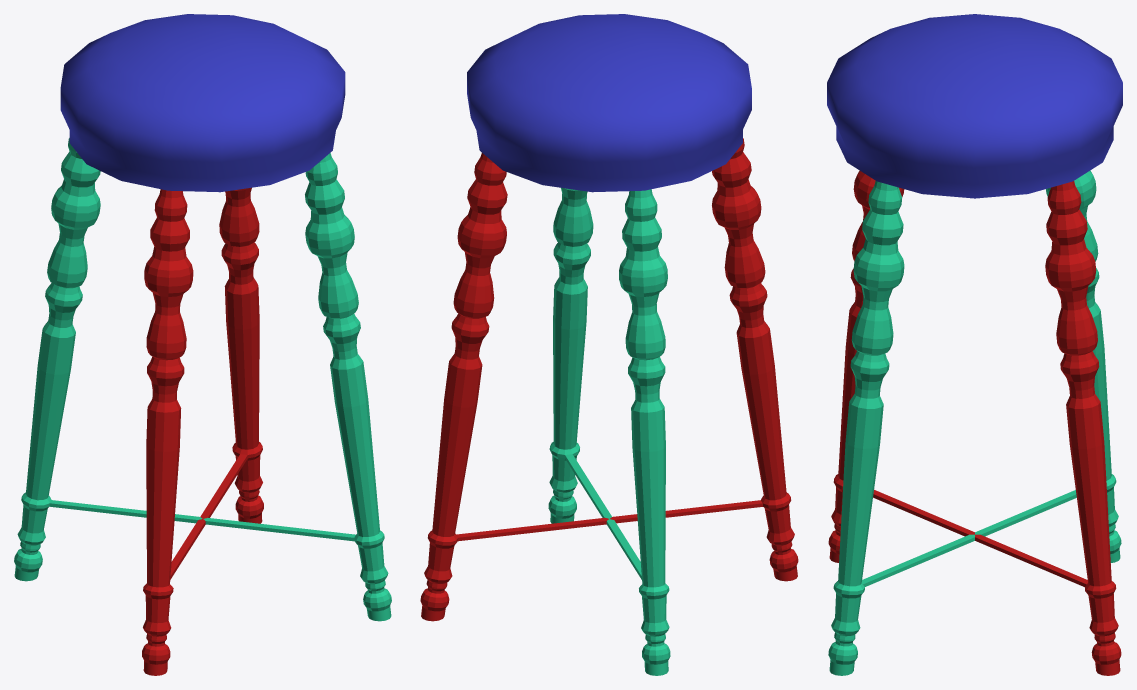
The model's file is Stool001.FBX.
3 views of the same model, side by side, from view 1: azimuth 30°, elevation 25°; view 2: azimuth 150°, elevation 25°; view 3: azimuth 270°, elevation 25° (orthographic). The views are drawn at different scales.
Visible parts, largest first — view 1: Seat, Legs001, Legs002; view 2: Seat, Legs002, Legs001; view 3: Seat, Legs001, Legs002.
Part boxes in pixels (box(x1,y1,x2,y2)): Seat: box(60, 14, 345, 192); Legs001: box(14, 138, 391, 621); Legs002: box(142, 187, 263, 675); Seat: box(467, 14, 751, 192); Legs002: box(420, 138, 798, 621); Legs001: box(548, 188, 670, 675); Seat: box(827, 14, 1122, 198); Legs001: box(828, 170, 1121, 675); Legs002: box(828, 170, 1121, 675).
Size of the model in its own units: 0.562 by 1.2 by 0.562.
